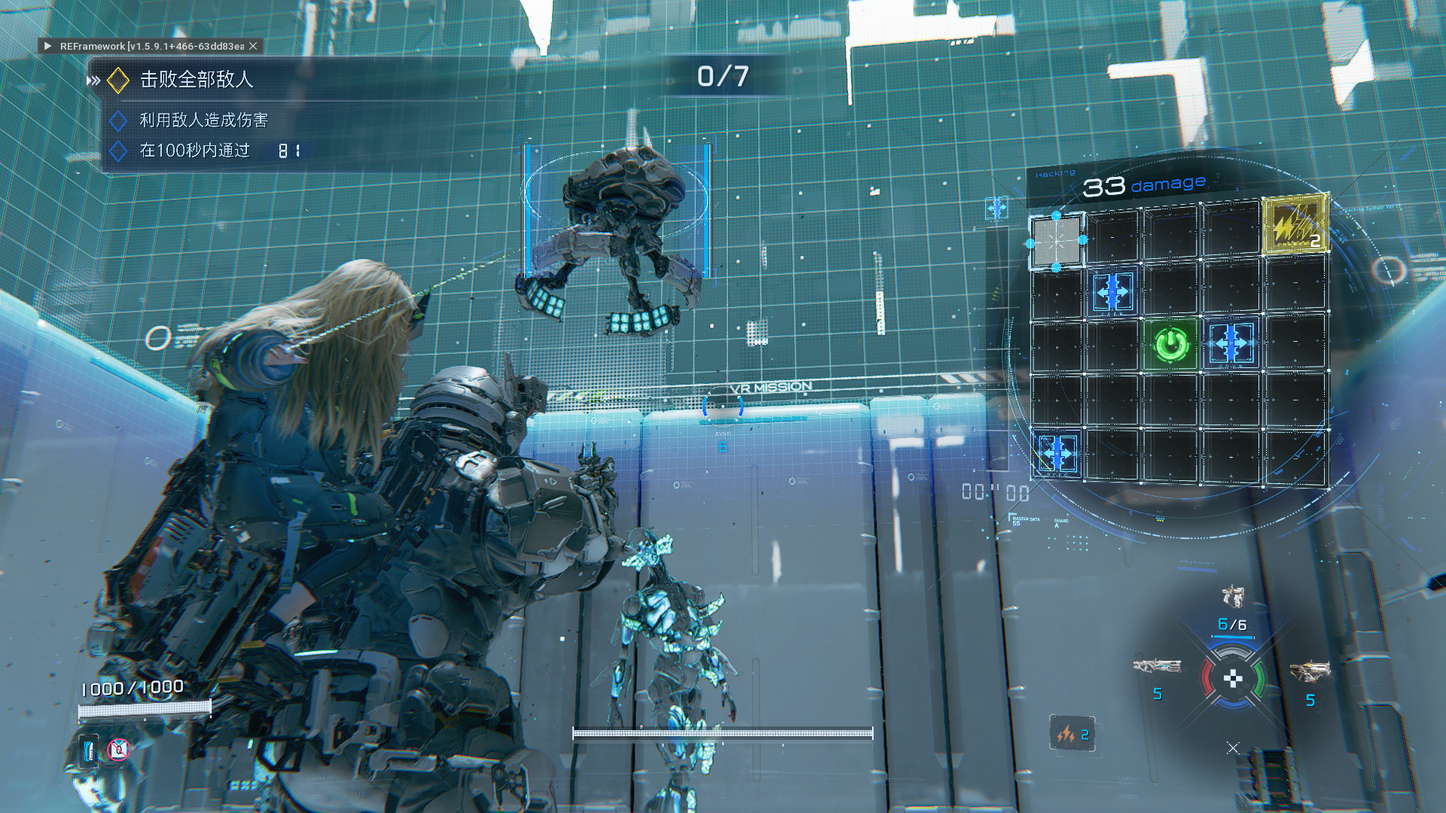puzzle_panel: (1027, 187, 1332, 492)
